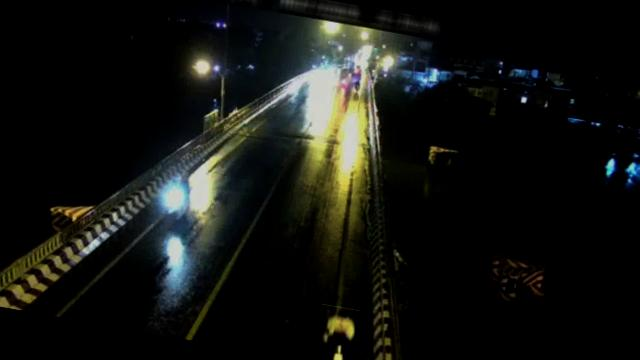Bike: (312, 303, 359, 360)
